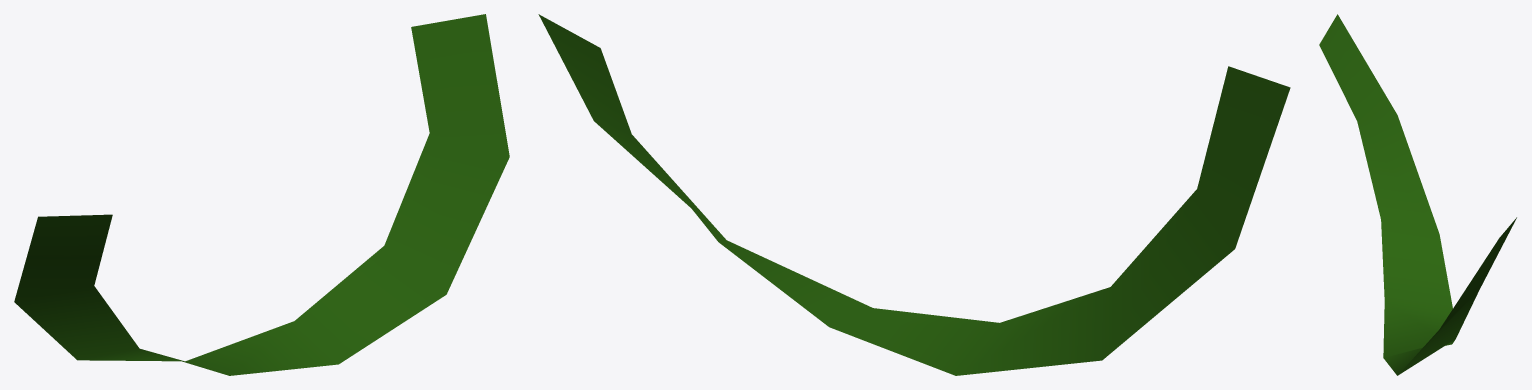
The model's file is m_cheese_2.FBX.
3 renders of one model, left to right at view 1: azimuth 30°, elevation 25°; view 2: azimuth 150°, elevation 25°; view 3: azimuth 270°, elevation 25°, orthographic. The views are drawn at different scales.
Visible parts, largest first — view 1: m_cheese_2; view 2: m_cheese_2; view 3: m_cheese_2.
Part boxes in pixels (x1,y1,x2,y2): m_cheese_2: [14, 14, 509, 375]; m_cheese_2: [538, 14, 1290, 375]; m_cheese_2: [1319, 14, 1516, 375].
Size of the model in its own units: 45.34 by 19.73 by 17.
